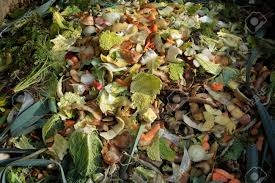organic: (11, 41, 63, 96), (67, 128, 106, 176), (50, 9, 87, 50), (128, 73, 164, 112), (39, 112, 69, 144), (145, 138, 179, 164), (192, 52, 224, 78), (56, 91, 88, 113), (182, 112, 216, 131), (165, 59, 189, 85), (100, 115, 126, 139), (98, 30, 124, 50), (184, 2, 205, 19)
